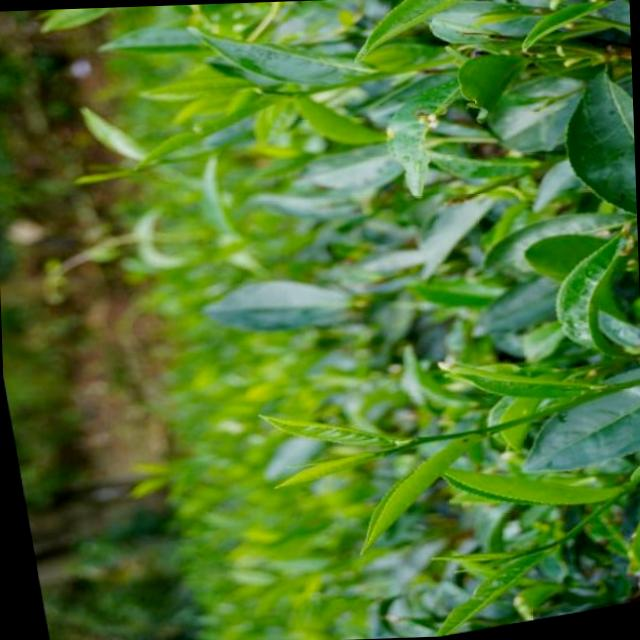Stem: (407, 438, 421, 445), (513, 552, 523, 557)
